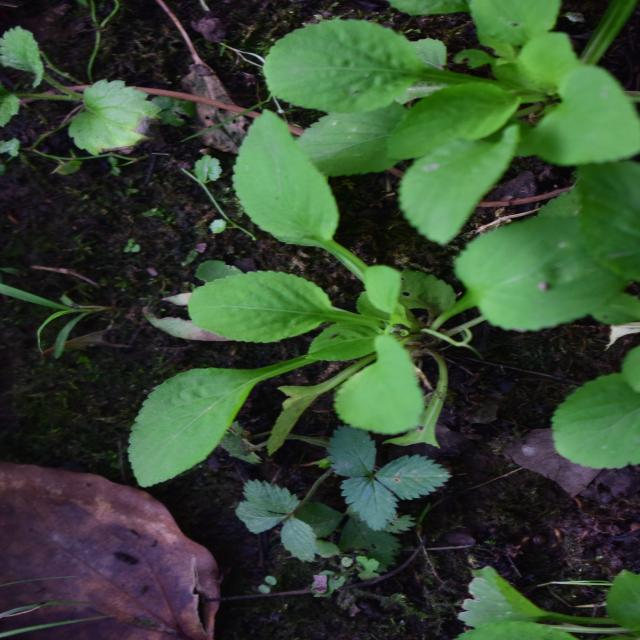Viola: (181, 109, 494, 579)
